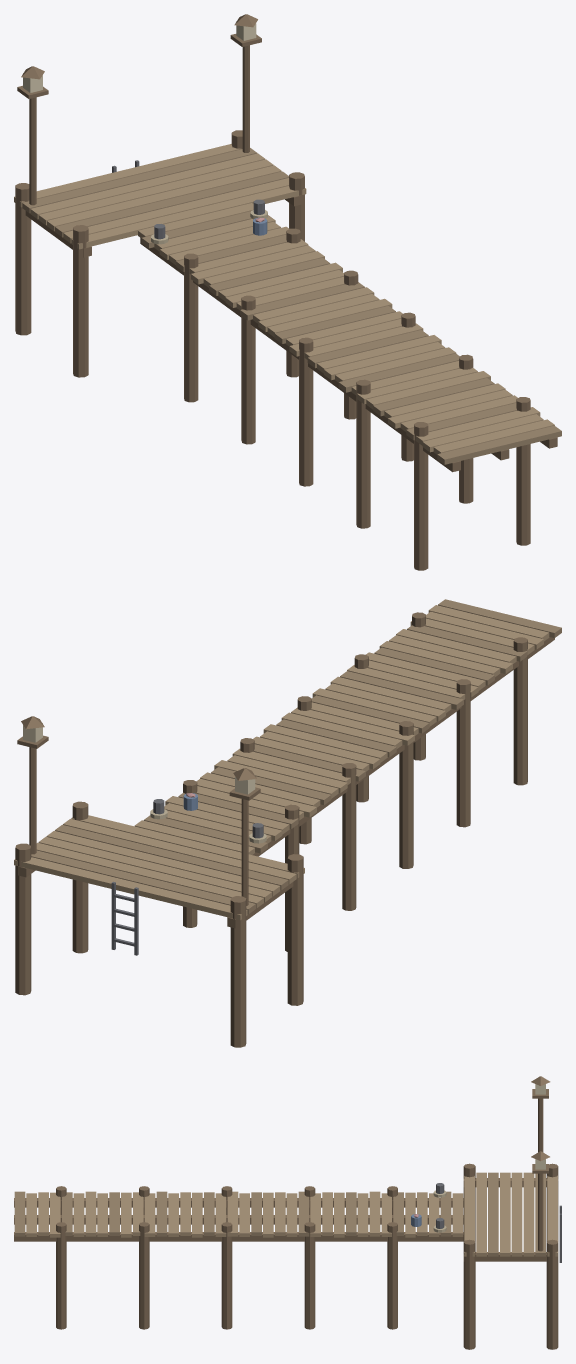
Rendered from Dock.glb.
3 renders of one model, top to bottom at view 1: azimuth 30°, elevation 25°; view 2: azimuth 150°, elevation 25°; view 3: azimuth 270°, elevation 25°, orthographic. The views are drawn at different scales.
Parts seen in each view (by area): view 1: Dock; view 2: Dock; view 3: Dock.
Boxes of the visible parts, <box> form: Dock: <box>14,14,561,570</box>; Dock: <box>14,599,561,1047</box>; Dock: <box>14,1076,561,1349</box>.
Size of the model in its own units: 16.7 by 18.2 by 46.3.
